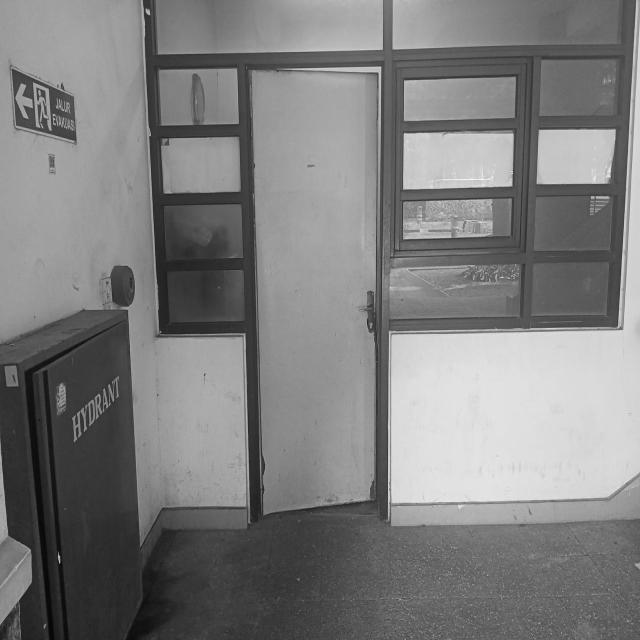door: (237, 51, 393, 523)
